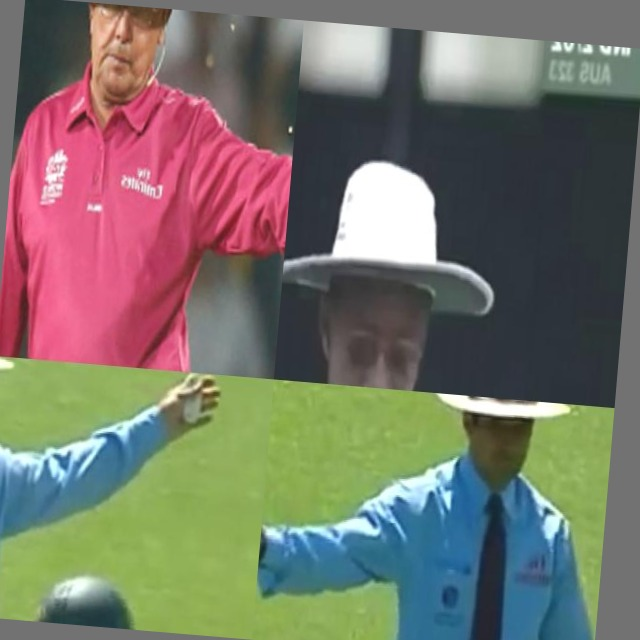No_Action: (274, 138, 571, 403)
No_Ball: (0, 0, 304, 379), (252, 379, 614, 640)
Wide: (0, 356, 255, 638)
